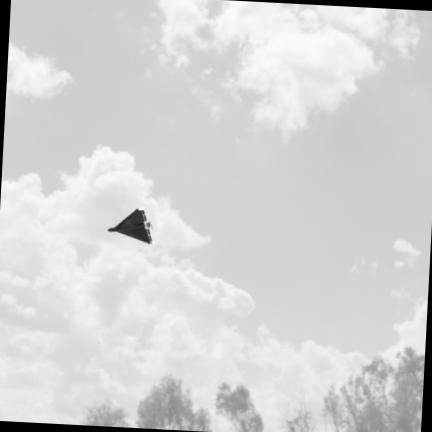Shahed: (109, 209, 152, 244)
